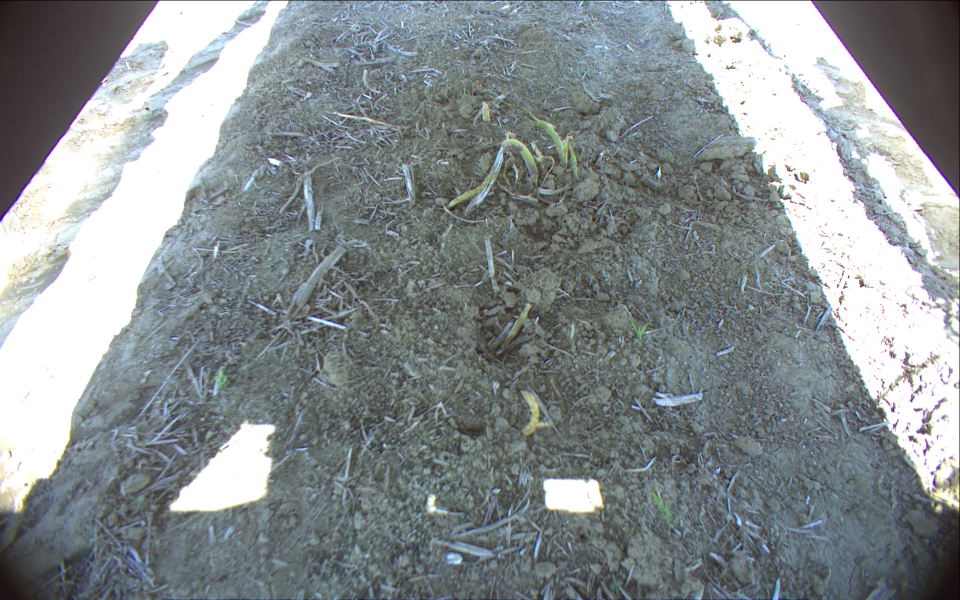aspa: (490, 135, 541, 187), (528, 112, 568, 170)
